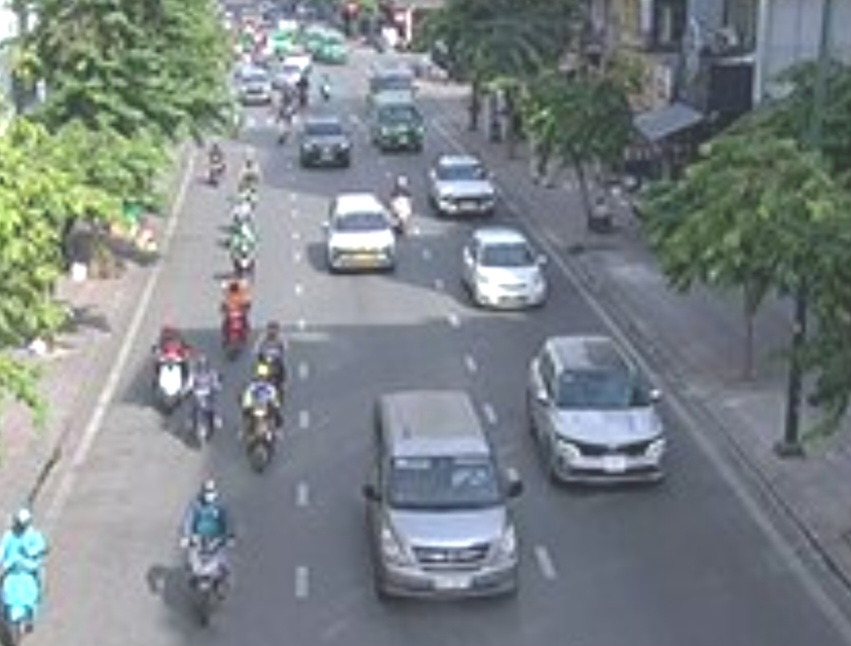car: (366, 389, 521, 603), (522, 340, 670, 489), (319, 191, 408, 274), (462, 232, 551, 313), (425, 150, 501, 219), (366, 100, 430, 155), (297, 121, 361, 171)
